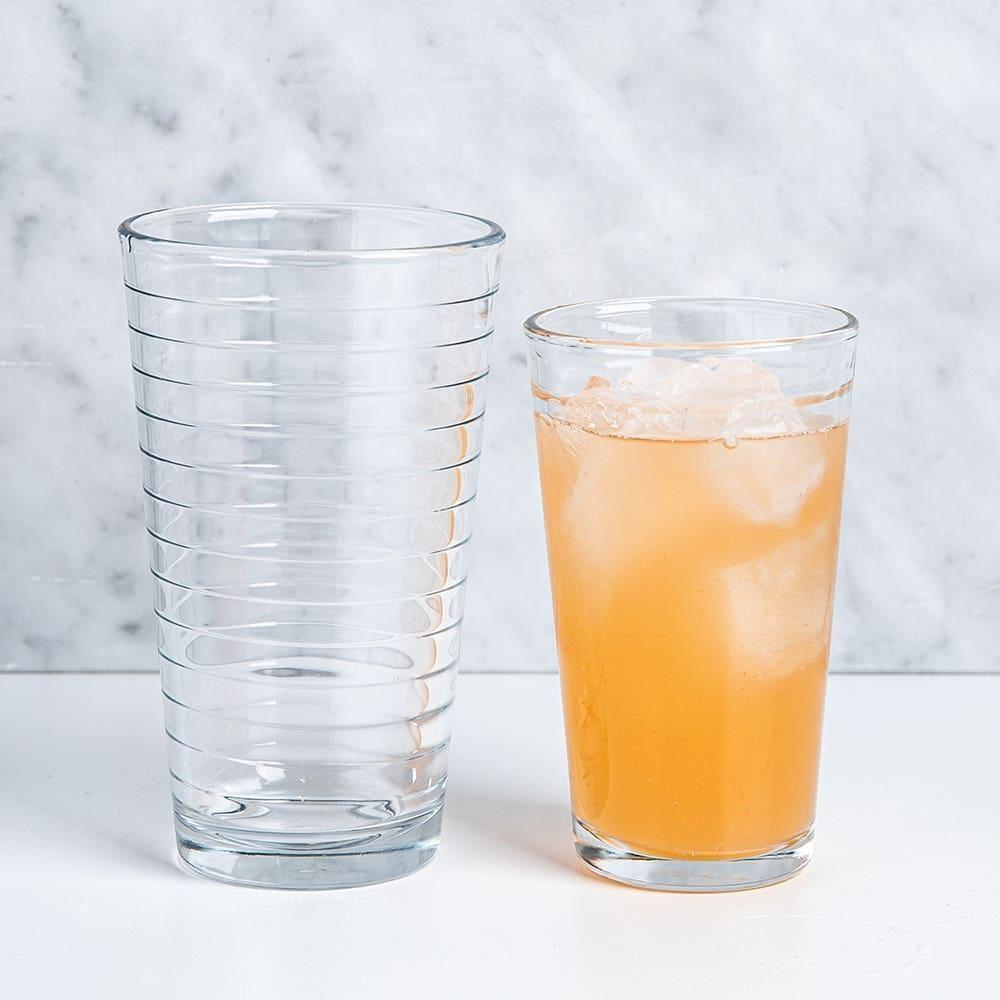glass-normal: (115, 201, 507, 890), (520, 293, 864, 895)
